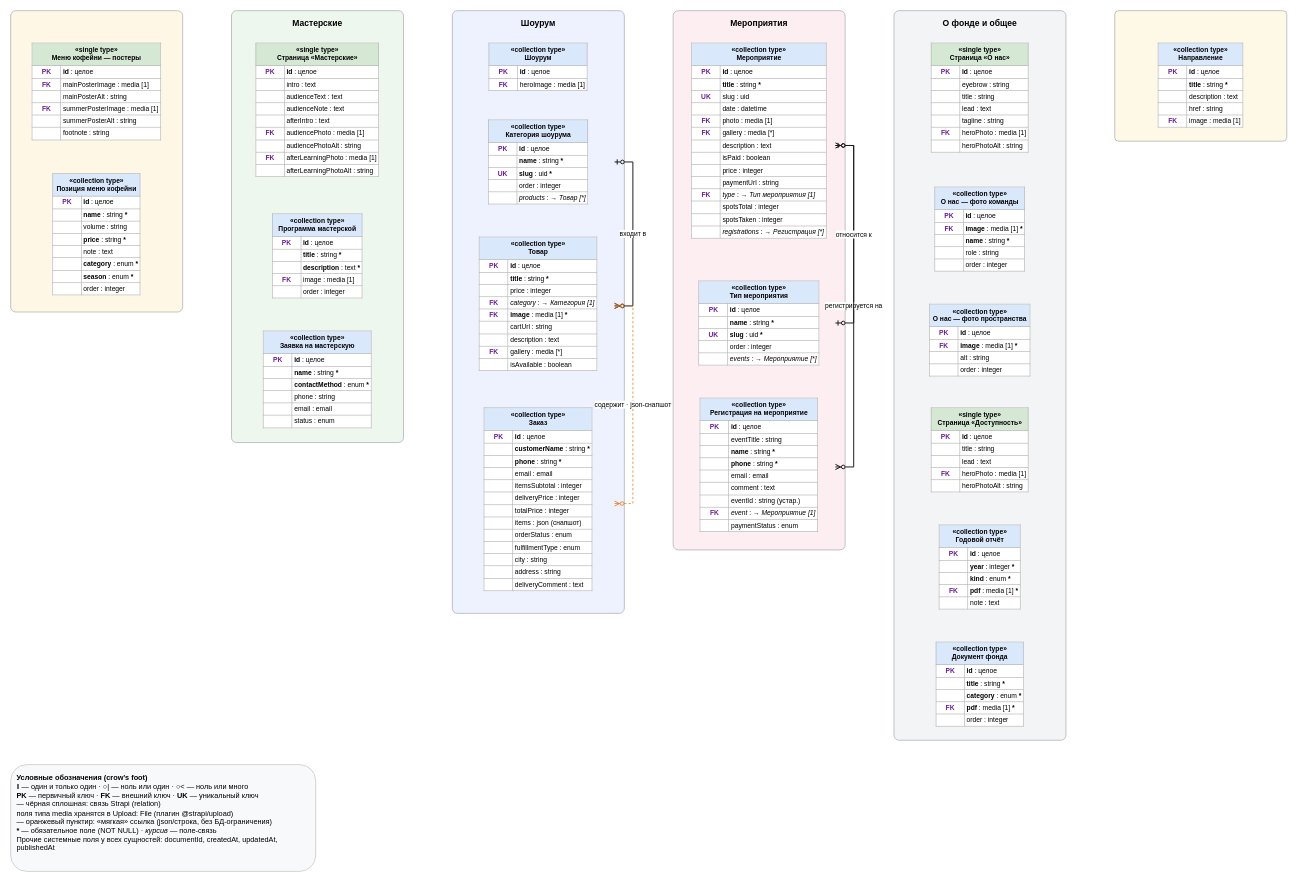
The diagram is 1297 pixels wide and 882 high, and some of its shapes have lost their labels. Each missing label, with the box of its shape:
Кофейня: (10, 10, 183, 312)
Навигация: (1114, 10, 1287, 141)
